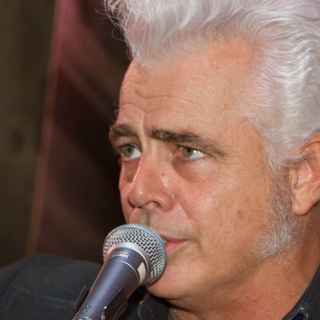eye: (167, 139, 213, 164), (113, 139, 145, 168)
